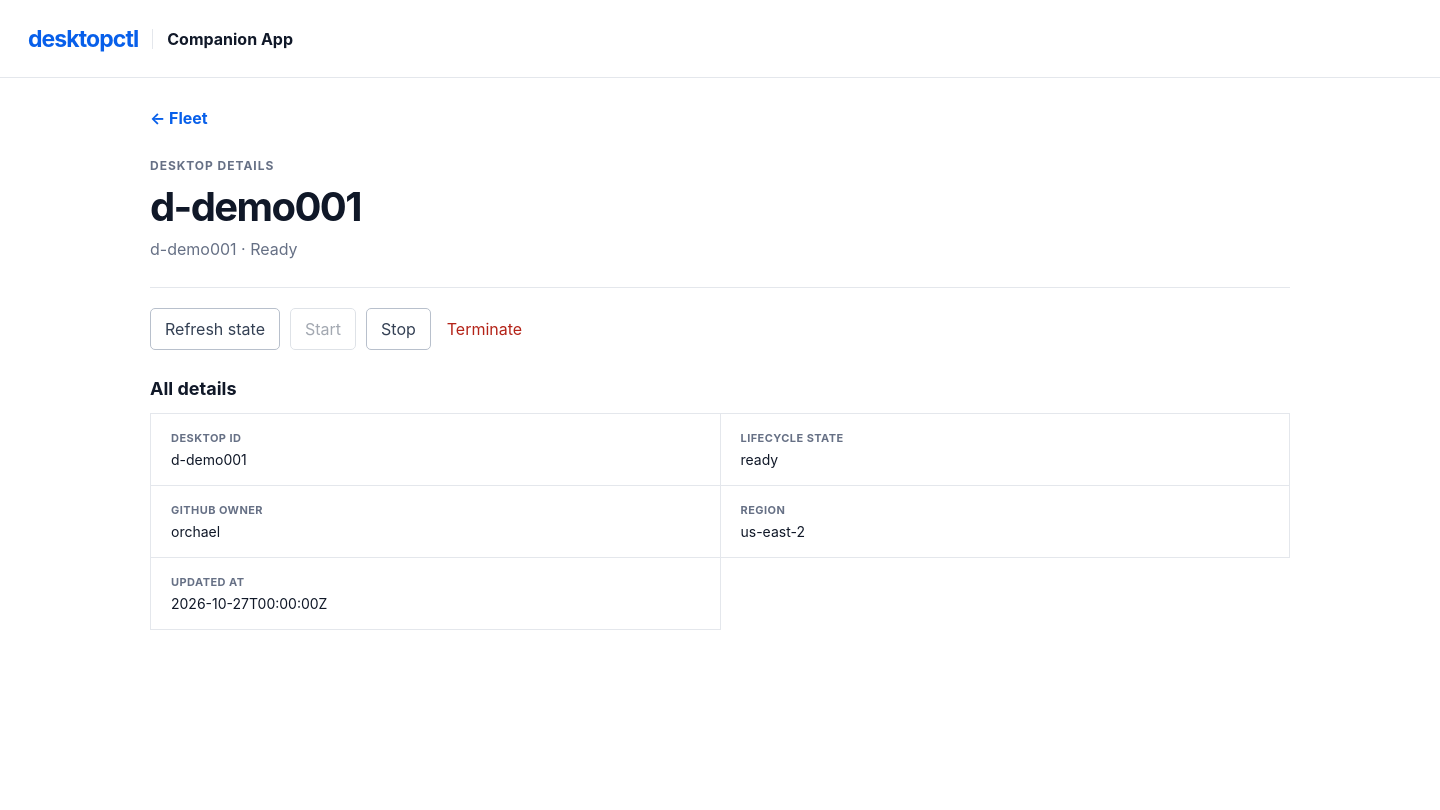
runs a lifecycle action and refreshes the detail page
Click the button "Stop": (398, 329) [366, 308, 431, 350]
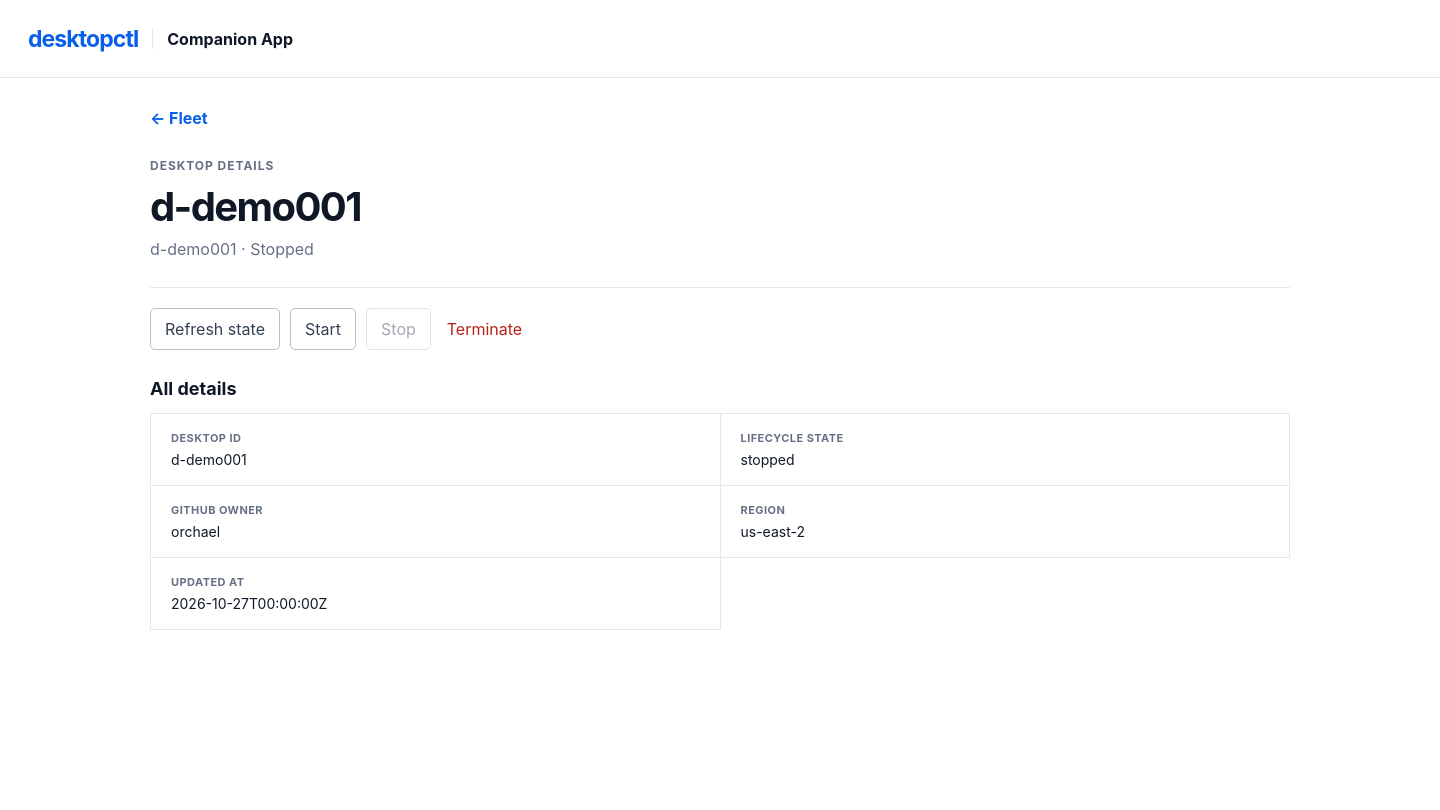
Expected: the element showing "d-demo001 · stopped" is shown, [150, 239, 314, 259]
